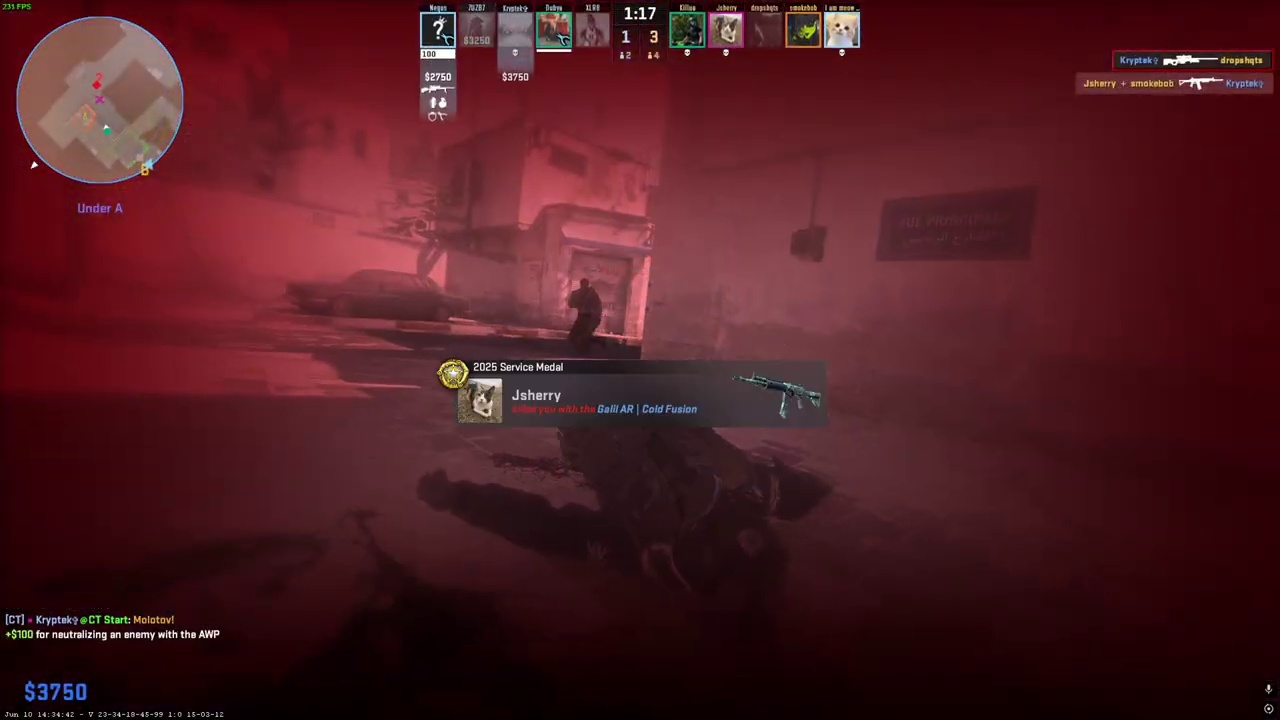CT: (566, 277, 603, 354)
